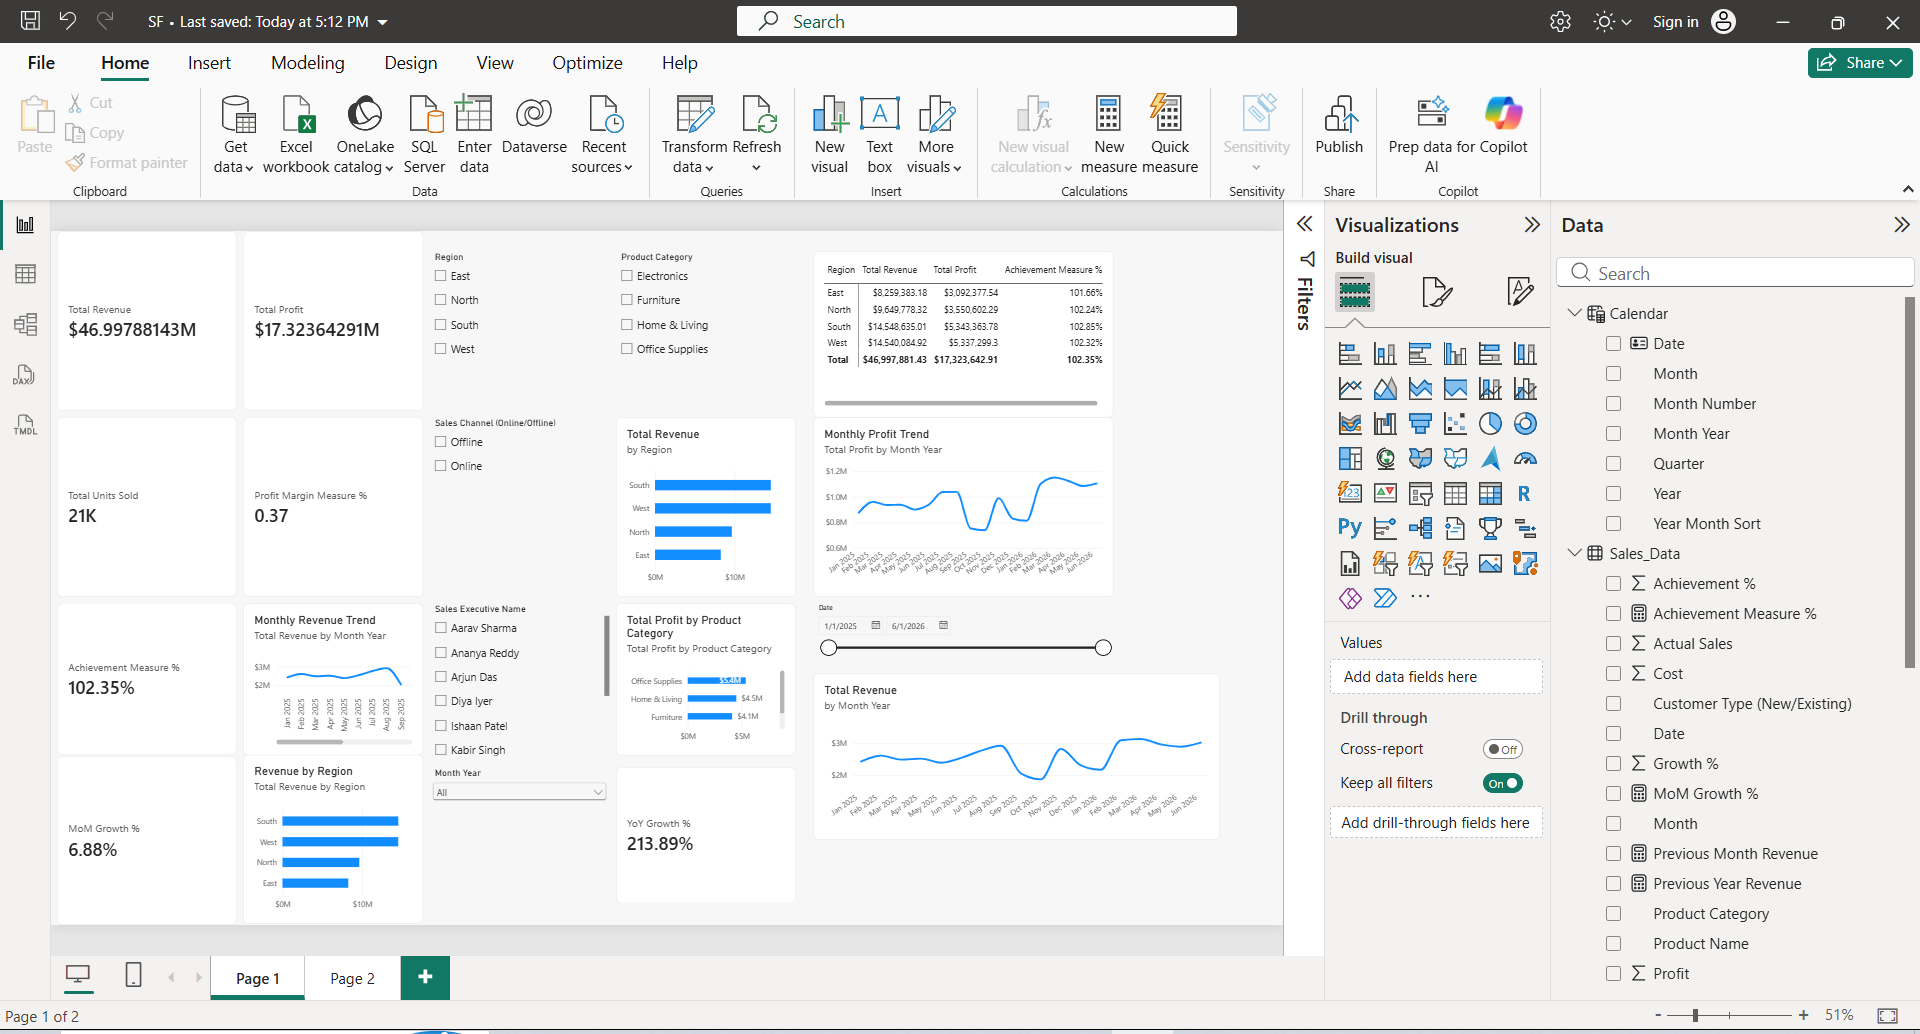

The dashboard page shown, as its layout file describes it:
{"tool":"powerbi","page":{"name":"Page 1","canvas":[1920,1080],"ordinal":0},"visuals":[{"type":"cardVisual","fields":{"Data":["Sales_Data.Total Revenue"]},"box":[10,0,280,280],"z":0},{"type":"cardVisual","fields":{"Data":["Sales_Data.Total Units Sold"]},"box":[10,290,280,280],"z":1000},{"type":"cardVisual","fields":{"Data":["Sales_Data.Achievement Measure %"]},"box":[10.3,580.4,279.9,236.7],"z":2000},{"type":"cardVisual","fields":{"Data":["Sales_Data.MoM Growth %"]},"box":[10.3,817.2,279.9,263.5],"z":3000},{"type":"cardVisual","fields":{"Data":["Sales_Data.Total Profit"]},"box":[300,0,280,280],"z":4000},{"type":"cardVisual","fields":{"Data":["Sales_Data.Profit Margin Measure %"]},"box":[300,290,280,280],"z":5000},{"type":"lineChart","title":"Monthly Revenue Trend","fields":{"Category":["Calendar.Month Year"],"Y":["Sales_Data.Total Revenue"]},"box":[300,580,280,237],"z":6000},{"type":"clusteredBarChart","title":"Revenue by Region","fields":{"Category":["Sales_Data.Region"],"Y":["Sales_Data.Total Revenue"]},"box":[300,817,280,263],"z":7000},{"type":"slicer","fields":{"Values":["Sales_Data.Region"]},"box":[590.1,31.2,280.5,198.7],"z":8000},{"type":"slicer","fields":{"Values":["Sales_Data.Sales Channel (Online/Offline)"]},"box":[590,290,280,280],"z":9000},{"type":"slicer","fields":{"Values":["Sales_Data.Sales Executive Name"]},"box":[590,580,280,237],"z":10000},{"type":"slicer","fields":{"Values":["Calendar.Month Year"]},"box":[590.1,835.5,280.5,134.4],"z":11000},{"type":"slicer","fields":{"Values":["Sales_Data.Product Category"]},"box":[880.3,31.2,280.5,200.6],"z":12000},{"type":"clusteredBarChart","fields":{"Category":["Sales_Data.Region"],"Y":["Sales_Data.Total Revenue"]},"box":[880,290,280,280],"z":13000},{"type":"clusteredBarChart","title":"Total Profit by Product Category","fields":{"Category":["Sales_Data.Product Category"],"Y":["Sales_Data.Total Profit"]},"box":[880,580,280,237],"z":14000},{"type":"pivotTable","fields":{"Rows":["Sales_Data.Region"],"Values":["Sales_Data.Total Revenue","Sales_Data.Total Profit","Sales_Data.Achievement Measure %"]},"box":[1188.1,31.2,467.4,259],"z":15000},{"type":"lineChart","fields":{"Category":["Calendar.Month Year"],"Y":["Sales_Data.Total Revenue"]},"box":[1188.1,689.5,633,259],"z":16000},{"type":"cardVisual","fields":{"Data":["Sales_Data.YoY Growth %"]},"box":[880.3,835.5,280.5,212.3],"z":17000},{"type":"lineChart","title":"Monthly Profit Trend","fields":{"Category":["Calendar.Month Year"],"Y":["Sales_Data.Total Profit"]},"box":[1188,290,467,280],"z":18000},{"type":"slicer","fields":{"Values":["Calendar.Date"]},"box":[1188.1,580.4,467.4,109.1],"z":19000}]}

Visuals, with their boxes on the page's 1920x1080 design canvas (x1, y1, x2, y2). These are canvas units, not pixel positions in the 1920x1034 screenshot, which may show the page scaled, cropped or inside an application window:
cardVisual - Sales_Data.Total Revenue: [left=10, top=0, right=290, bottom=280]
cardVisual - Sales_Data.Total Units Sold: [left=10, top=290, right=290, bottom=570]
cardVisual - Sales_Data.Achievement Measure %: [left=10, top=580, right=290, bottom=817]
cardVisual - Sales_Data.MoM Growth %: [left=10, top=817, right=290, bottom=1081]
cardVisual - Sales_Data.Total Profit: [left=300, top=0, right=580, bottom=280]
cardVisual - Sales_Data.Profit Margin Measure %: [left=300, top=290, right=580, bottom=570]
"Monthly Revenue Trend" lineChart: [left=300, top=580, right=580, bottom=817]
"Revenue by Region" clusteredBarChart: [left=300, top=817, right=580, bottom=1080]
slicer - Sales_Data.Region: [left=590, top=31, right=871, bottom=230]
slicer - Sales_Data.Sales Channel (Online/Offline): [left=590, top=290, right=870, bottom=570]
slicer - Sales_Data.Sales Executive Name: [left=590, top=580, right=870, bottom=817]
slicer - Calendar.Month Year: [left=590, top=836, right=871, bottom=970]
slicer - Sales_Data.Product Category: [left=880, top=31, right=1161, bottom=232]
clusteredBarChart - Sales_Data.Region x Sales_Data.Total Revenue: [left=880, top=290, right=1160, bottom=570]
"Total Profit by Product Category" clusteredBarChart: [left=880, top=580, right=1160, bottom=817]
pivotTable - Sales_Data.Region x Sales_Data.Total Revenue: [left=1188, top=31, right=1656, bottom=290]
lineChart - Calendar.Month Year x Sales_Data.Total Revenue: [left=1188, top=690, right=1821, bottom=948]
cardVisual - Sales_Data.YoY Growth %: [left=880, top=836, right=1161, bottom=1048]
"Monthly Profit Trend" lineChart: [left=1188, top=290, right=1655, bottom=570]
slicer - Calendar.Date: [left=1188, top=580, right=1656, bottom=690]
